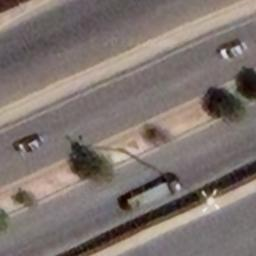truck: (120, 173, 184, 209)
unknown: (216, 38, 252, 64), (12, 132, 48, 156)
